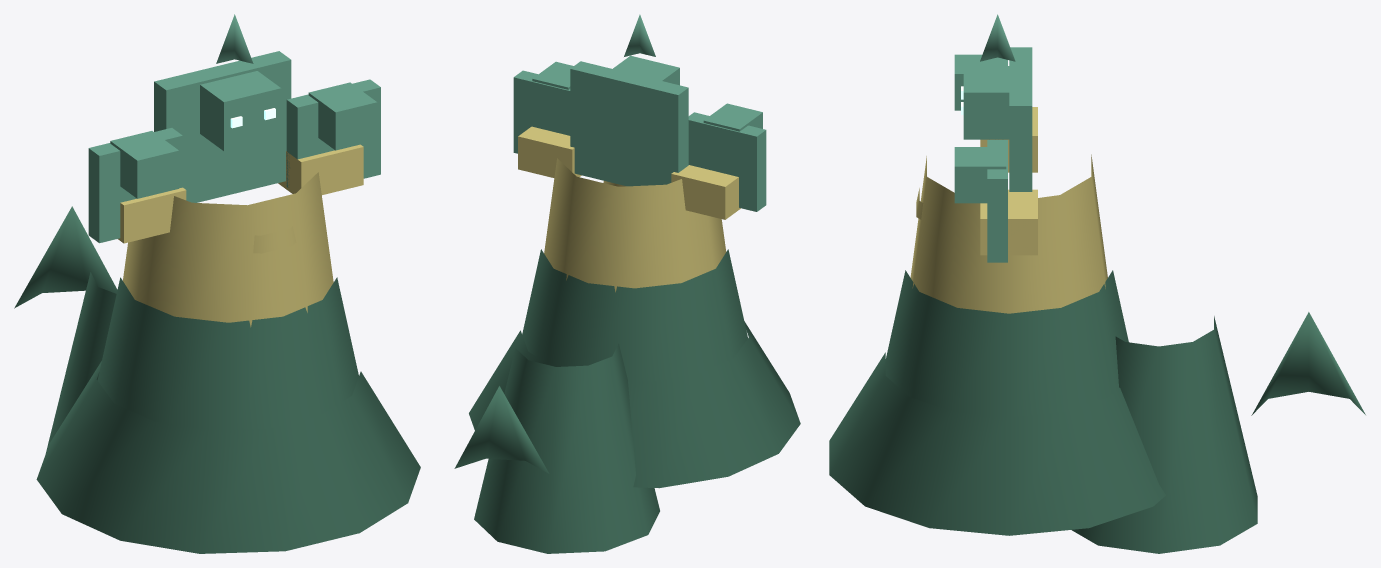
Rendered from boss_shesha_echo.glb.
The picture shows the model from 3 angles, left to right: view 1: azimuth 30°, elevation 25°; view 2: azimuth 150°, elevation 25°; view 3: azimuth 270°, elevation 25°; orthographic projection. The views are drawn at different scales.
Visible parts, largest first — view 1: RootNode; view 2: RootNode; view 3: RootNode.
Boxes of the visible parts, x1,y1,x2,y2 form: RootNode: (14, 14, 420, 553); RootNode: (454, 14, 800, 553); RootNode: (829, 14, 1365, 553).
Bounding box in the file's own units: 3.2 × 4.75 × 4.66.
